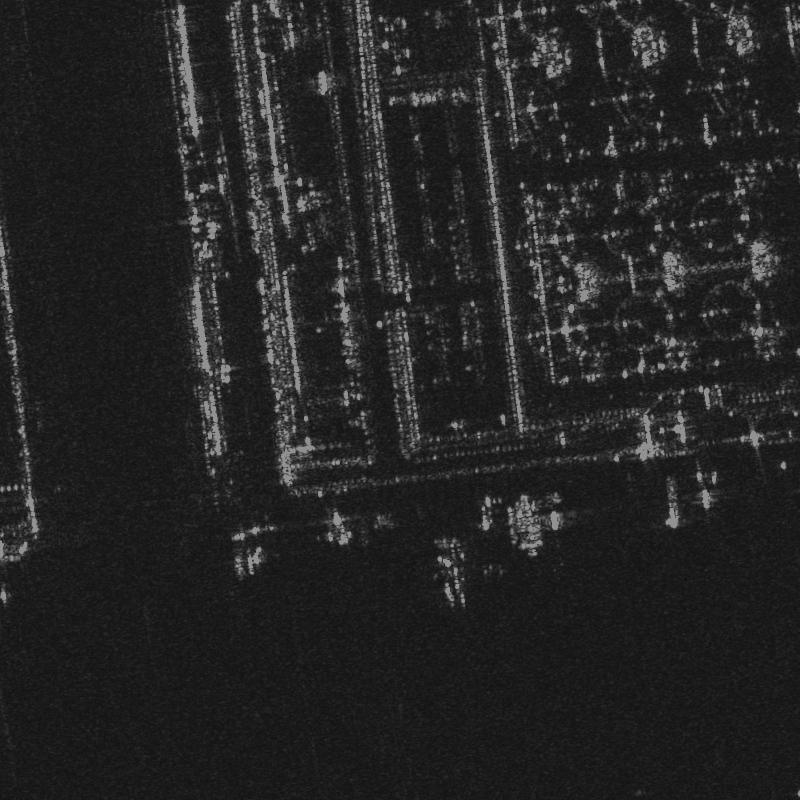Boeing787: (411, 531, 495, 609)
